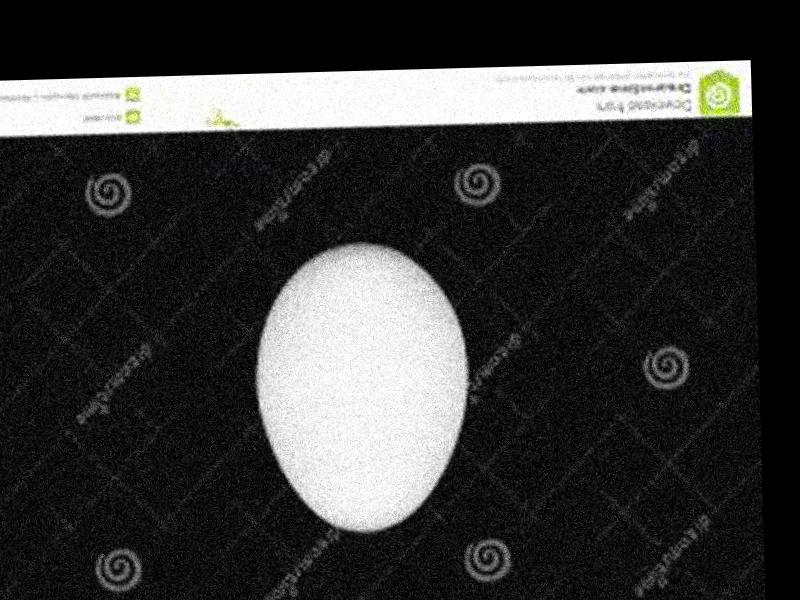Eggs: (248, 241, 469, 533)
